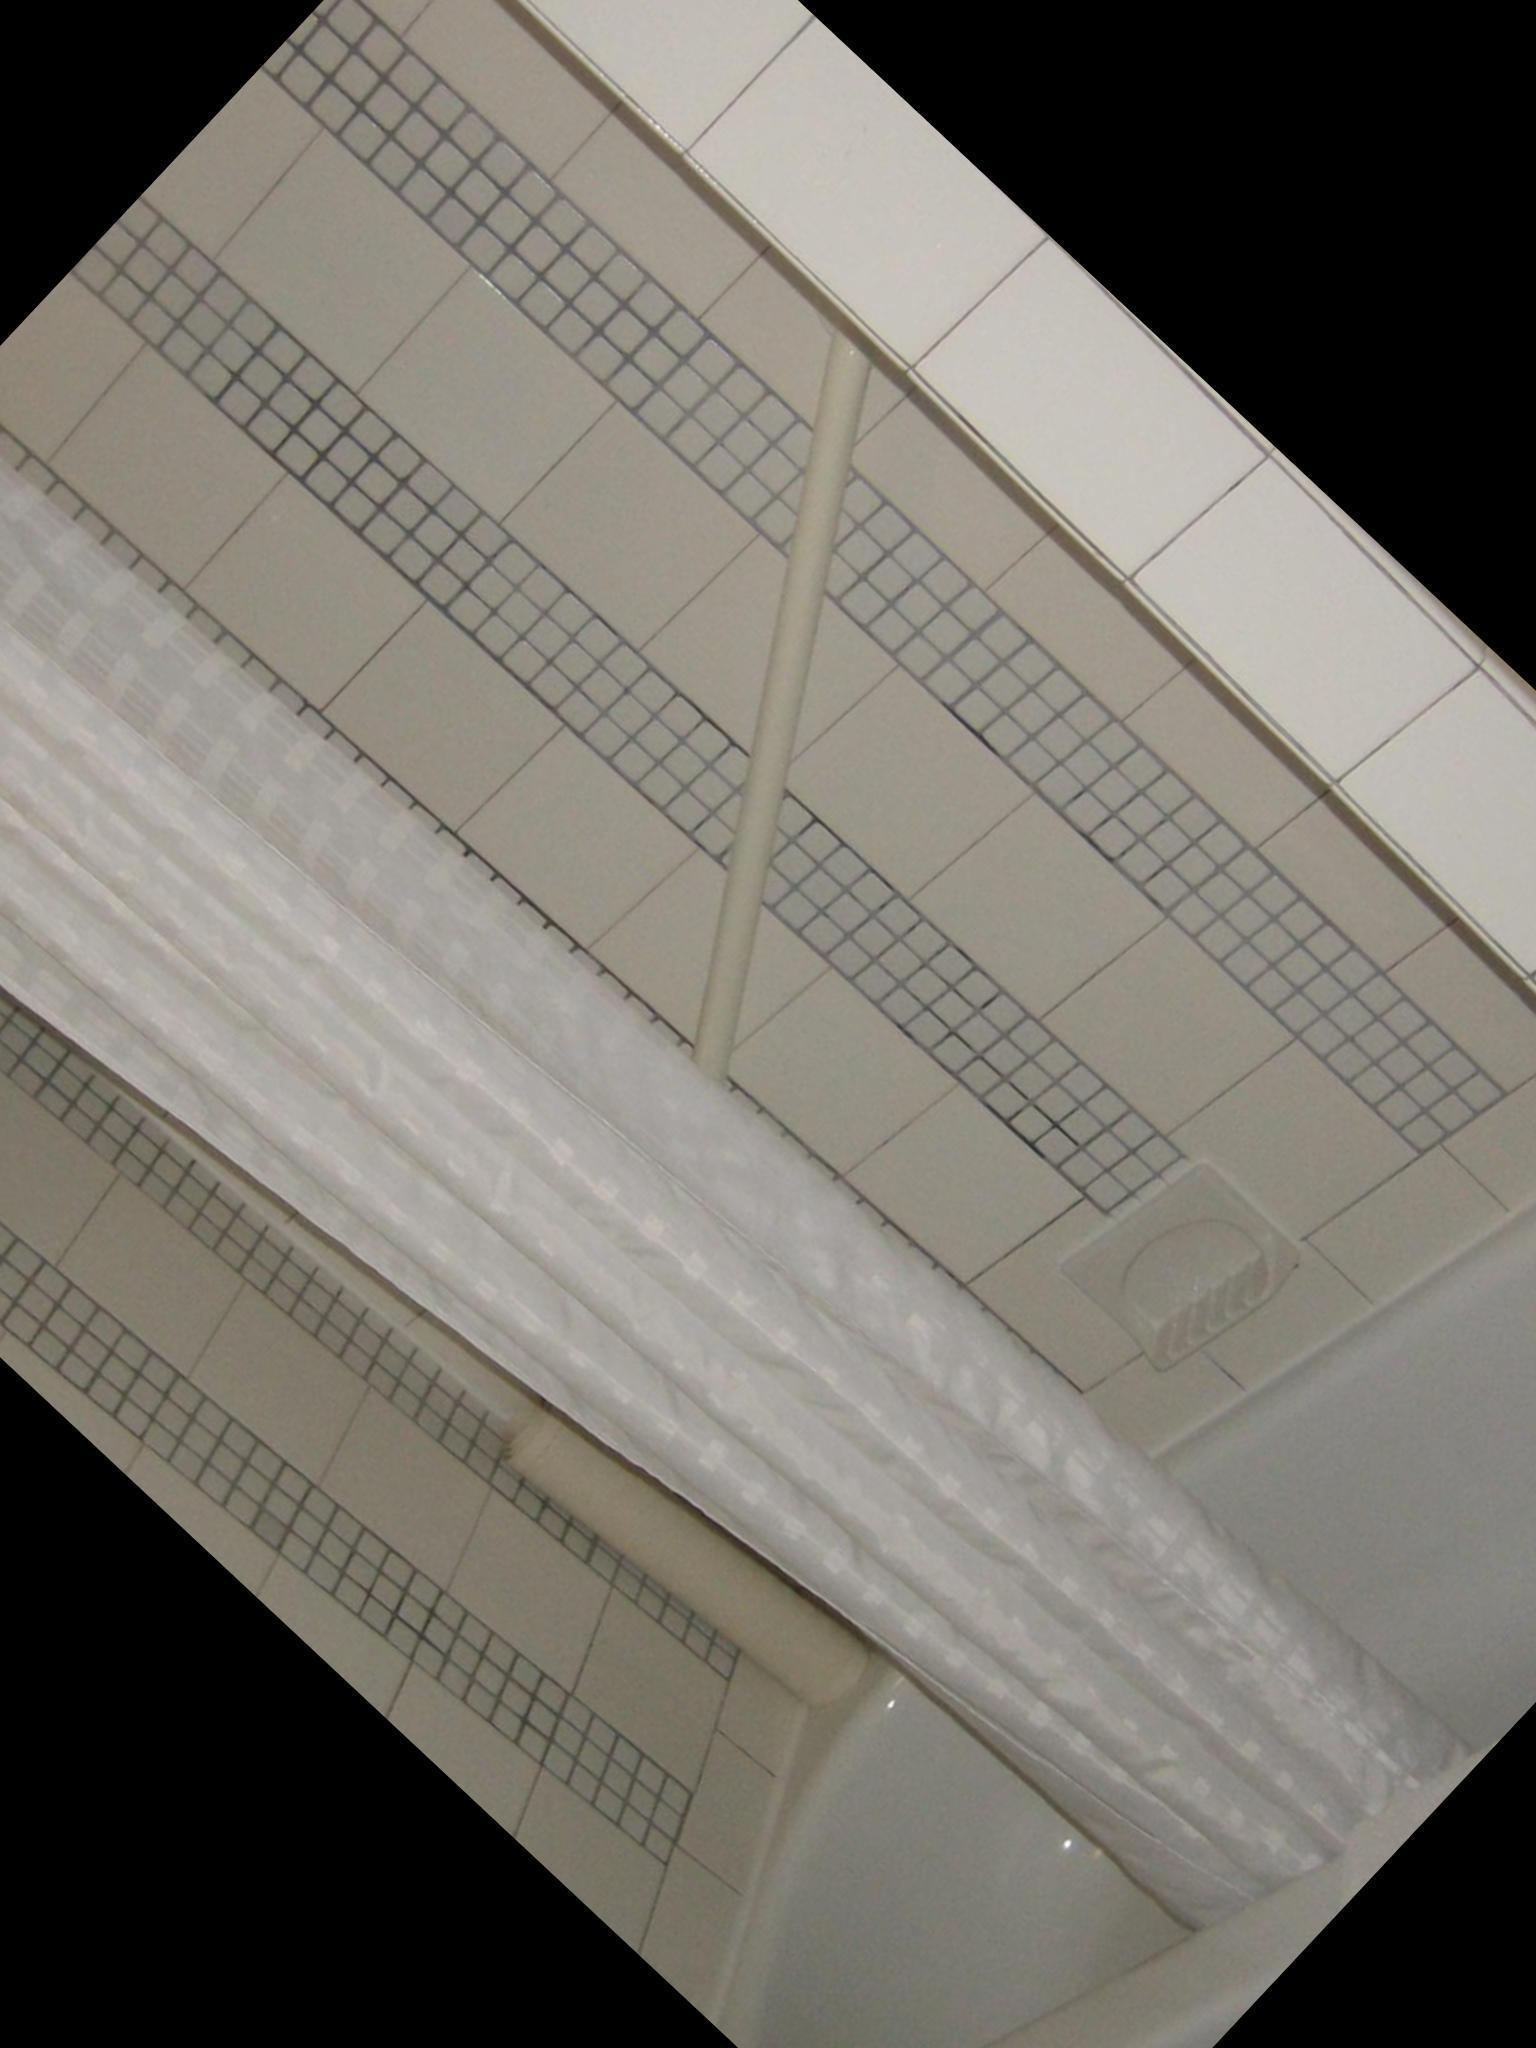Ducha: (0, 347, 950, 2048)
